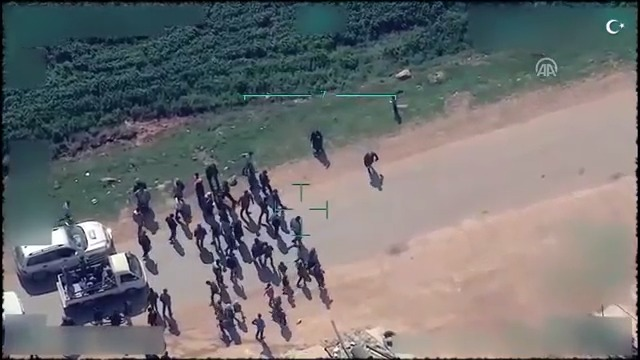arac: (11, 210, 115, 279), (58, 243, 148, 310)
insan: (306, 123, 330, 160), (357, 144, 385, 172), (190, 219, 212, 249), (287, 213, 305, 244), (249, 312, 268, 341), (137, 228, 158, 254), (164, 211, 179, 246), (158, 285, 173, 318), (147, 284, 161, 314), (258, 167, 273, 194), (206, 278, 221, 305), (260, 240, 273, 271)
